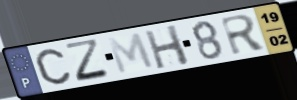8: (192, 20, 225, 62)
C: (34, 47, 73, 86)
H: (142, 23, 193, 71)
M: (105, 31, 158, 77)
R: (218, 12, 269, 57)
Z: (63, 37, 114, 84)
